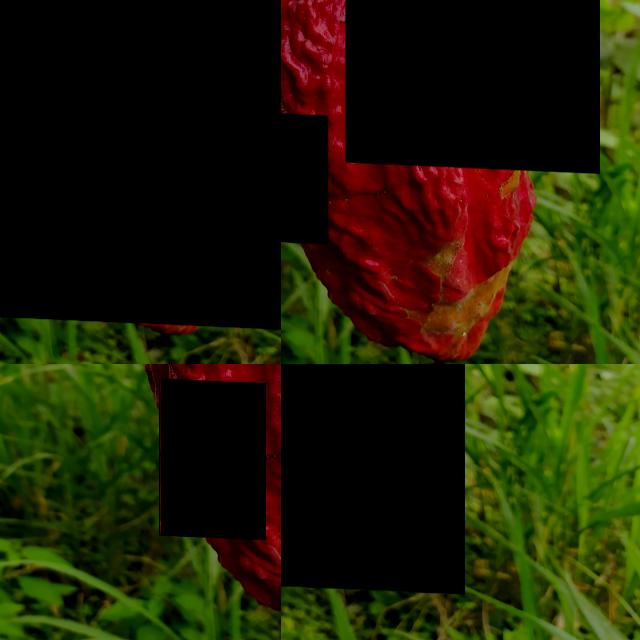Fitoftora: (281, 109, 328, 241)
Monilia: (346, 0, 600, 168), (160, 377, 266, 537)
Sana: (0, 0, 281, 326), (281, 364, 465, 590), (426, 225, 486, 362), (609, 0, 640, 126), (281, 0, 296, 70), (363, 283, 397, 313)
